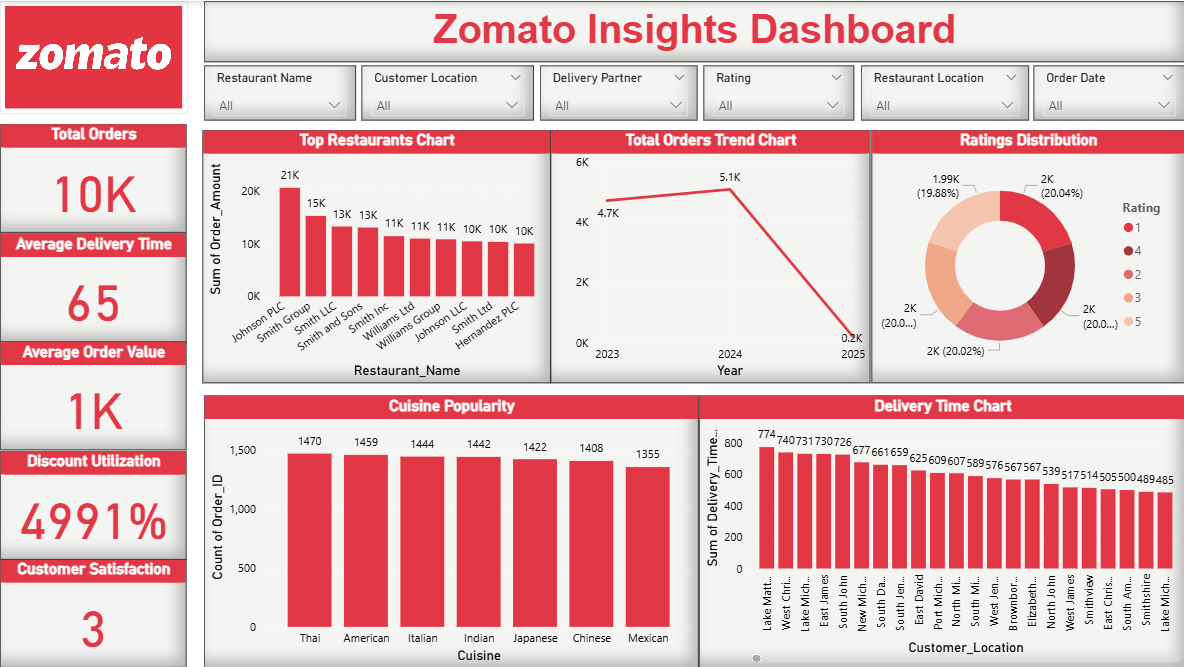

What the dashboard file says about the page in this screenshot:
{"tool":"powerbi","page":{"name":"Zomato Insight Dashboard","canvas":[1280,720],"ordinal":1},"visuals":[{"type":"textbox","box":[220.3,0,1059.8,66.2],"z":0},{"type":"slicer","fields":{"Values":["Sheet1.Restaurant_Name"]},"box":[220.1,70.2,164.2,59],"z":0,"group":"g1"},{"type":"card","title":"Total Orders ","fields":{"Values":["Count(Sheet1.Order_ID)"]},"box":[0,132.5,201.6,117.6],"z":0,"group":"g4"},{"type":"image","box":[0,0,201.6,121],"z":1000},{"type":"slicer","fields":{"Values":["Sheet1.Customer_Location"]},"box":[390,70.2,185.8,59],"z":1000,"group":"g1"},{"type":"card","title":"Average Delivery Time","fields":{"Values":["Avg(Sheet1.Delivery_Time_Minutes)"]},"box":[0,250.1,201.6,117.6],"z":1000,"group":"g4"},{"type":"group","id":"g1","title":"Group 1","box":[220.1,70.2,1059.7,59],"z":2000},{"type":"slicer","fields":{"Values":["Sheet1.Delivery_Partner"]},"box":[583,70.2,169.9,59],"z":2000,"group":"g1"},{"type":"card","title":"Average Order Value","fields":{"Values":["Avg(Sheet1.Order_Amount)"]},"box":[0,367.7,201.6,117.6],"z":2000,"group":"g4"},{"type":"slicer","fields":{"Values":["Sheet1.Rating"]},"box":[758.7,70.2,162.7,59],"z":3000,"group":"g1"},{"type":"group","id":"g2","title":"Group 2","box":[218.7,140.1,1061.1,273.6],"z":3000},{"type":"card","title":"Customer Satisfaction","fields":{"Values":["Avg(Sheet1.Rating)"]},"box":[0,602.8,201.6,117.6],"z":3000,"group":"g4"},{"type":"slicer","fields":{"Values":["Sheet1.Restaurant_Location"]},"box":[928.6,70.2,181.4,59],"z":4000,"group":"g1"},{"type":"group","id":"g3","title":"Group 3","box":[220.3,426.2,1059.8,293.8],"z":4000},{"type":"card","title":"Discount Utilization","fields":{"Values":["Sheet1.Discount Utilization (%)"]},"box":[0,485.3,201.6,117.6],"z":4000,"group":"g4"},{"type":"slicer","fields":{"Values":["Sheet1.Order_Date.Variation.Date Hierarchy.Year","Sheet1.Order_Date.Variation.Date Hierarchy.Month","Sheet1.Order_Date.Variation.Date Hierarchy.Day"]},"box":[1115.6,70.2,164.2,59],"z":5000,"group":"g1"},{"type":"group","id":"g4","title":"Group 4","box":[0,132.5,201.6,587.5],"z":5000},{"type":"lineChart","title":"Total Orders Trend Chart","fields":{"Category":["Sheet1.Order_Date.Variation.Date Hierarchy.Year"],"Y":["CountNonNull(Sheet1.Order_ID)"]},"box":[594.5,140.1,345.6,273.6],"z":5000,"group":"g2"},{"type":"columnChart","title":"Delivery Time Chart","fields":{"Category":["Sheet1.Customer_Location"],"Y":["Sum(Sheet1.Delivery_Time_Minutes)"]},"box":[754.5,426.2,525.6,293.8],"z":6000,"group":"g3"},{"type":"columnChart","title":"Top Restaurants Chart","fields":{"Category":["Sheet1.Restaurant_Name"],"Y":["Sum(Sheet1.Order_Amount)"]},"box":[218.7,140.1,375.8,273.6],"z":7000,"group":"g2"},{"type":"donutChart","title":"Ratings Distribution","fields":{"Y":["CountNonNull(Sheet1.Order_ID)"],"Category":["Sheet1.Rating"]},"box":[941.4,140.1,338.4,273.6],"z":8000,"group":"g2"},{"type":"columnChart","title":"Cuisine Popularity","fields":{"Category":["Sheet1.Cuisine"],"Y":["CountNonNull(Sheet1.Order_ID)"]},"box":[220.3,426.2,534.2,293.8],"z":9000,"group":"g3"}]}

Visuals, with their boxes in screenshot pixels (x1, y1, x2, y2), scaled from the page's 1280x720 canvas onto the 1184x667 screenshot:
textbox: <region>204, 0, 1183, 61</region>
slicer - Sheet1.Restaurant_Name: <region>204, 65, 355, 120</region>
"Total Orders " card: <region>0, 123, 186, 232</region>
image: <region>0, 0, 186, 112</region>
slicer - Sheet1.Customer_Location: <region>361, 65, 533, 120</region>
"Average Delivery Time" card: <region>0, 232, 186, 341</region>
"Group 1" group: <region>204, 65, 1183, 120</region>
slicer - Sheet1.Delivery_Partner: <region>539, 65, 696, 120</region>
"Average Order Value" card: <region>0, 341, 186, 450</region>
slicer - Sheet1.Rating: <region>702, 65, 852, 120</region>
"Group 2" group: <region>202, 130, 1183, 383</region>
"Customer Satisfaction" card: <region>0, 558, 186, 666</region>
slicer - Sheet1.Restaurant_Location: <region>859, 65, 1027, 120</region>
"Group 3" group: <region>204, 395, 1183, 666</region>
"Discount Utilization" card: <region>0, 450, 186, 559</region>
slicer - Sheet1.Order_Date.Variation.Date Hierarchy.Year x Sheet1.Order_Date.Variation.Date Hierarchy.Month: <region>1032, 65, 1183, 120</region>
"Group 4" group: <region>0, 123, 186, 666</region>
"Total Orders Trend Chart" lineChart: <region>550, 130, 870, 383</region>
"Delivery Time Chart" columnChart: <region>698, 395, 1183, 666</region>
"Top Restaurants Chart" columnChart: <region>202, 130, 550, 383</region>
"Ratings Distribution" donutChart: <region>871, 130, 1183, 383</region>
"Cuisine Popularity" columnChart: <region>204, 395, 698, 666</region>
